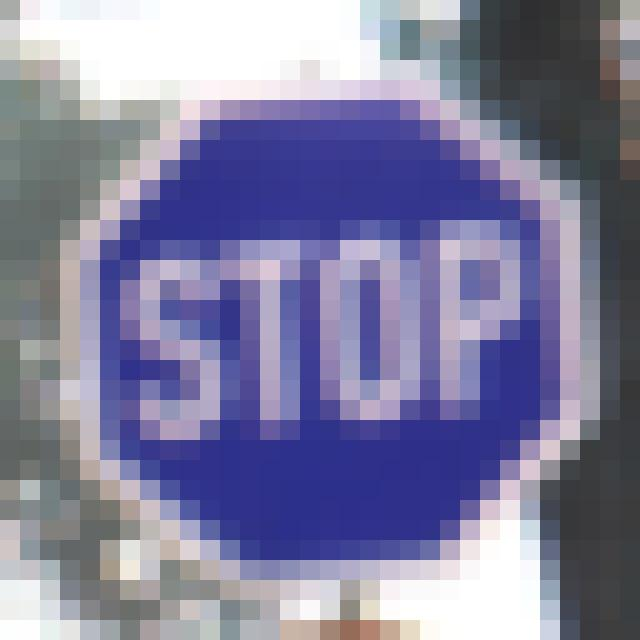STOP: (84, 106, 559, 565)
